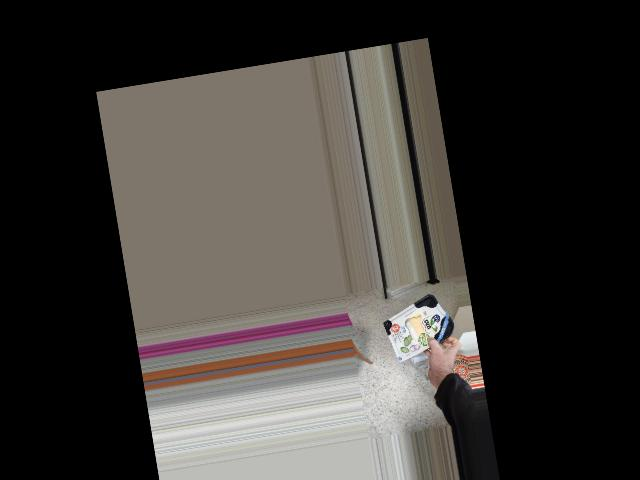cheese: (380, 295, 459, 353)
